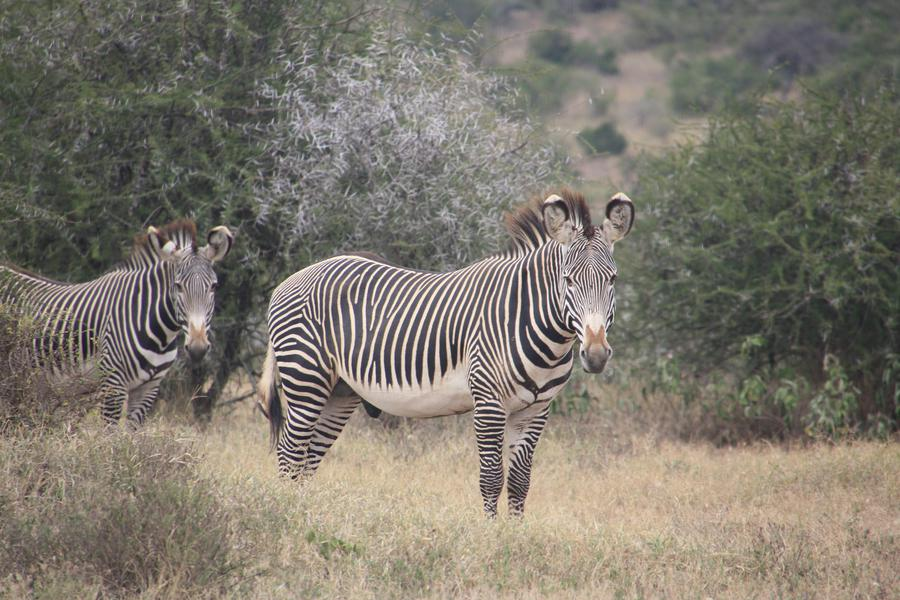zebra_grevys: (274, 246, 545, 397)
